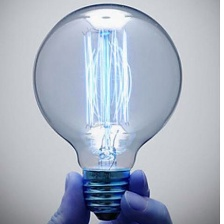light_bulb: (29, 0, 188, 222)
